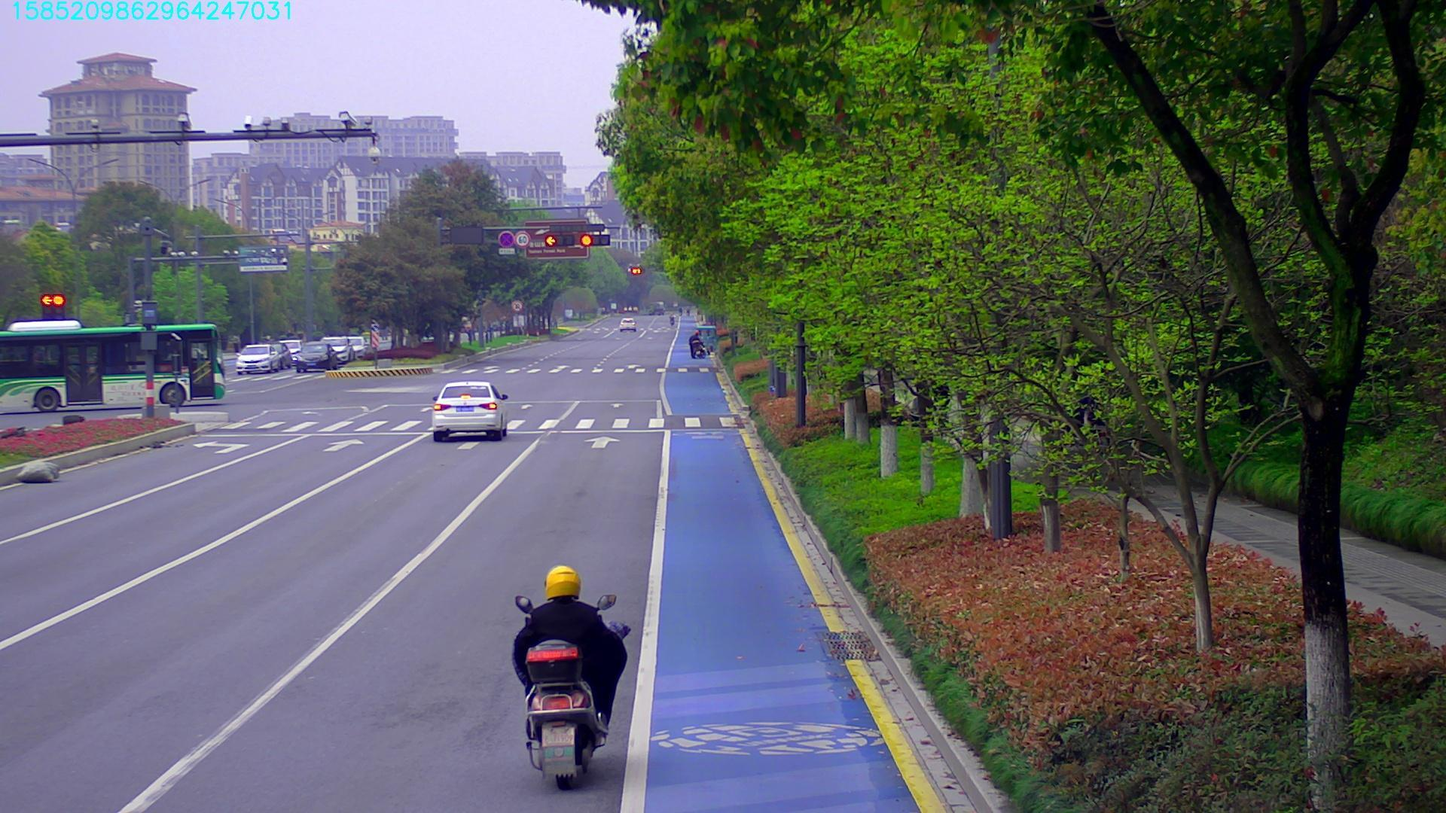red: (580, 233, 611, 247), (543, 233, 573, 244)
